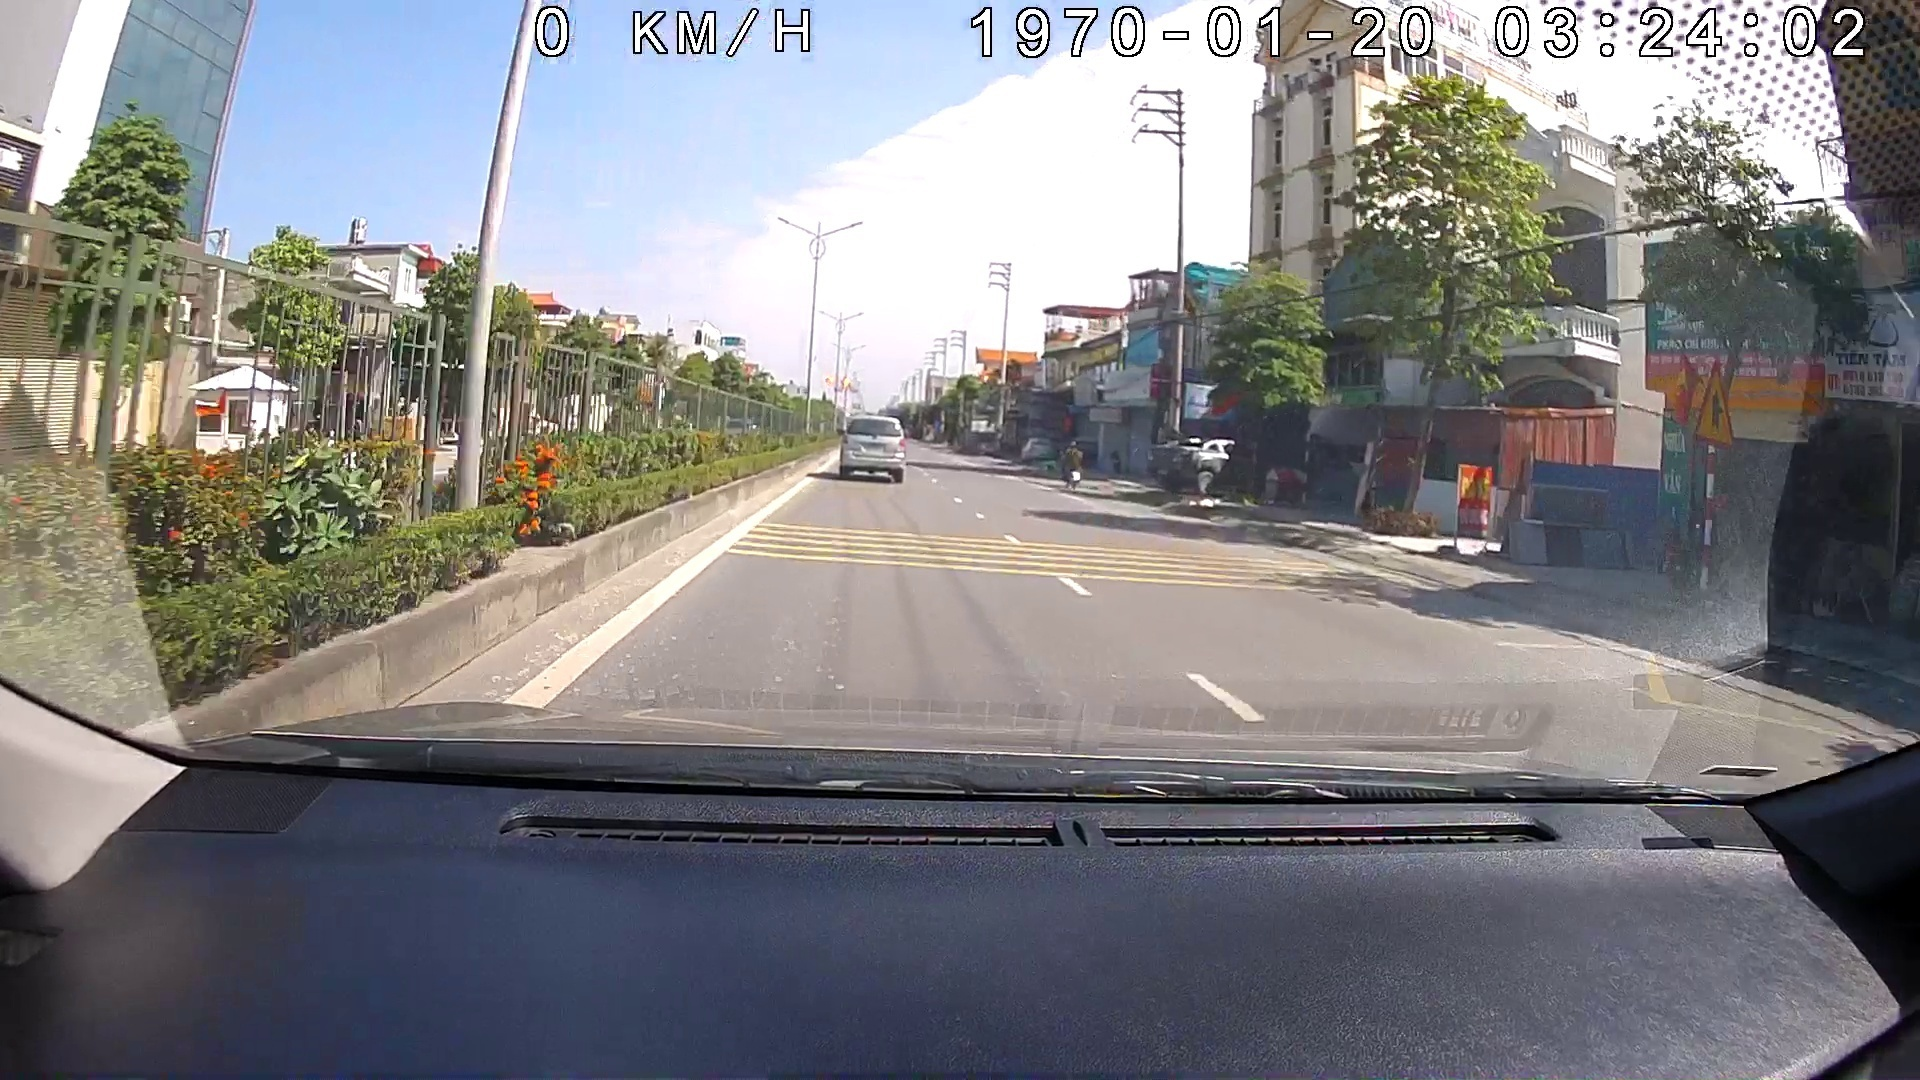Giao nhau voi duong khong uu tien: (1692, 360, 1739, 451)
